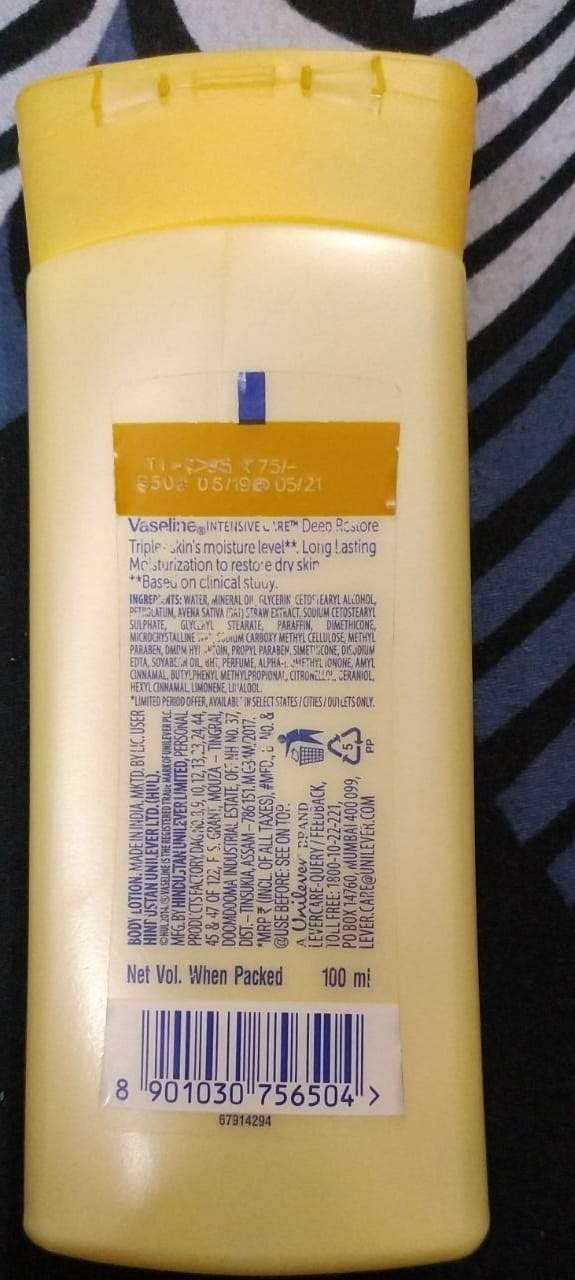barcode: (104, 994, 408, 1119)
